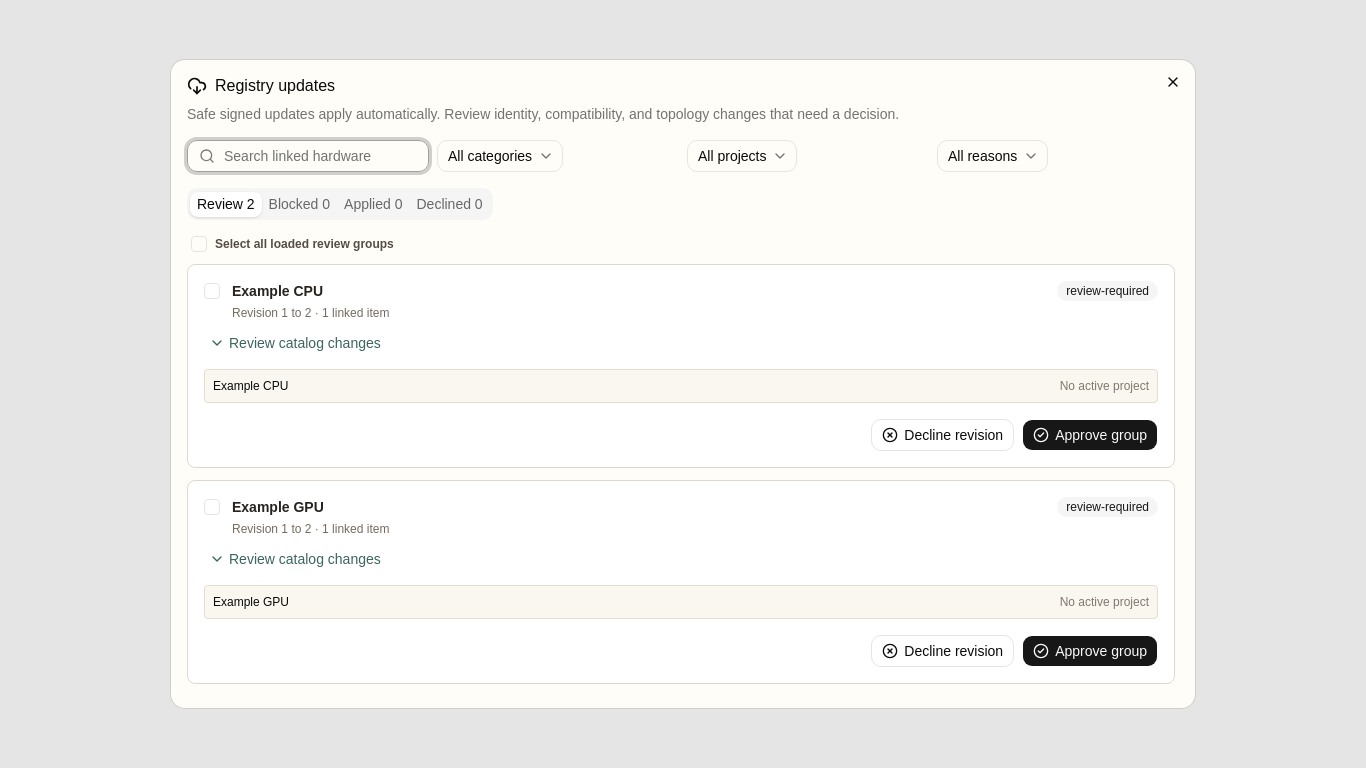
RegistryUpdatesDialog › keeps a failed decision on the original card
Click the 1st button "Approve group" at (1090, 435), box [1022,419,1158,451]
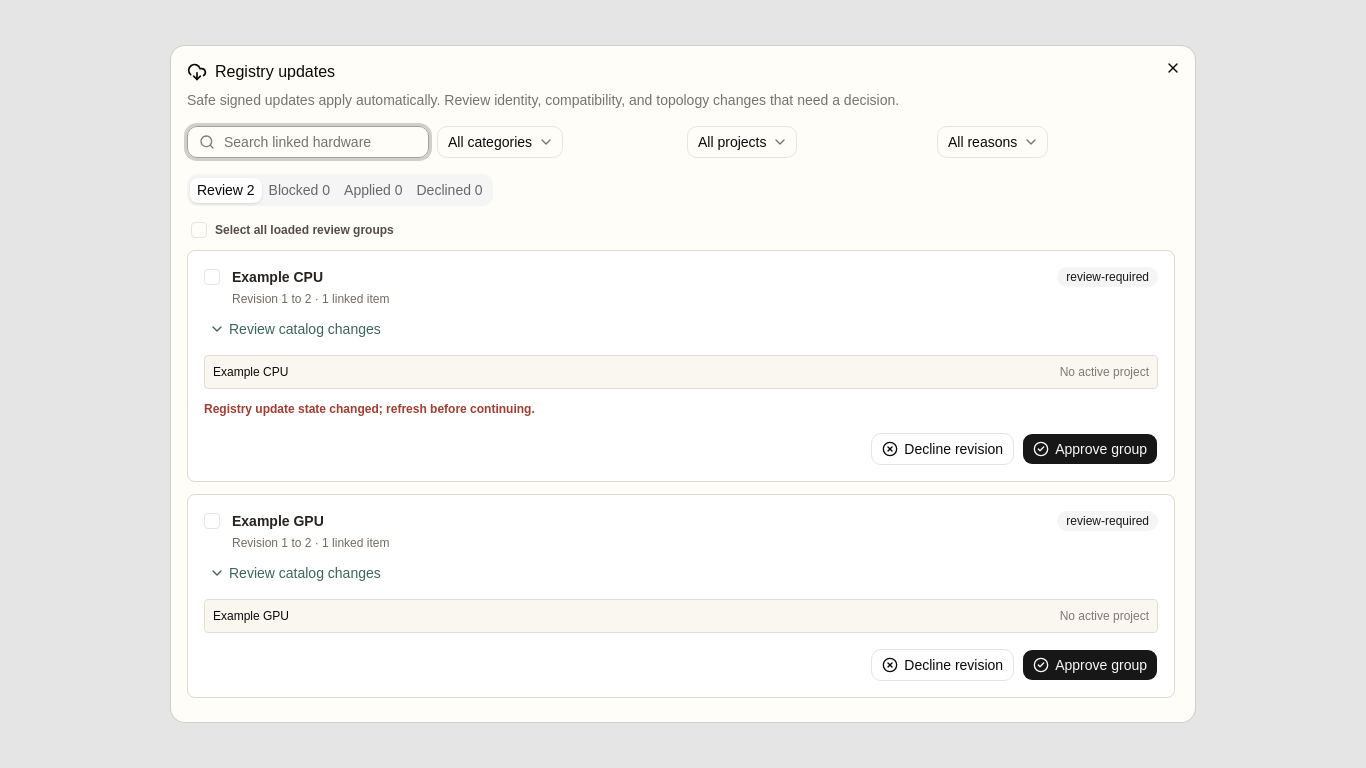
Check: the heading "Example GPU" is shown, box [232,513,324,529]
Check: the message shows "refresh before continuing", box [204,402,535,416]
